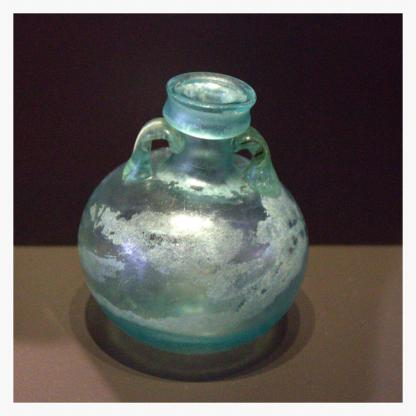vase: (76, 70, 309, 356)
